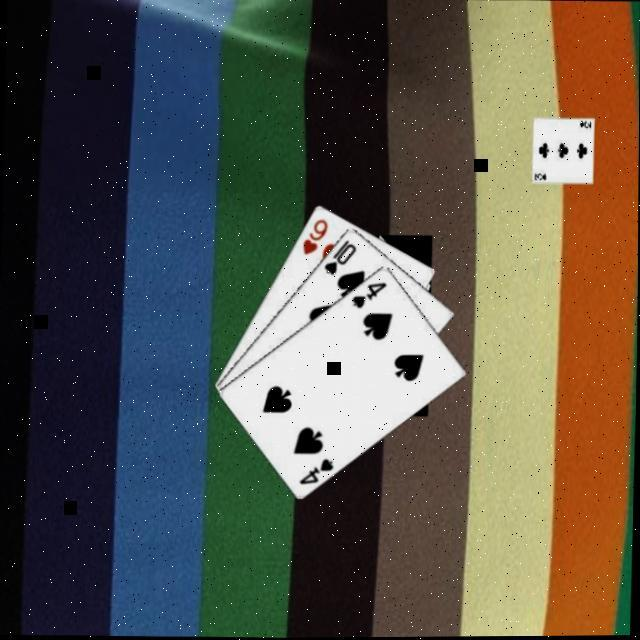10S: (322, 235, 360, 277)
4S: (350, 277, 391, 310), (298, 453, 338, 486)
9H: (300, 214, 331, 257)
